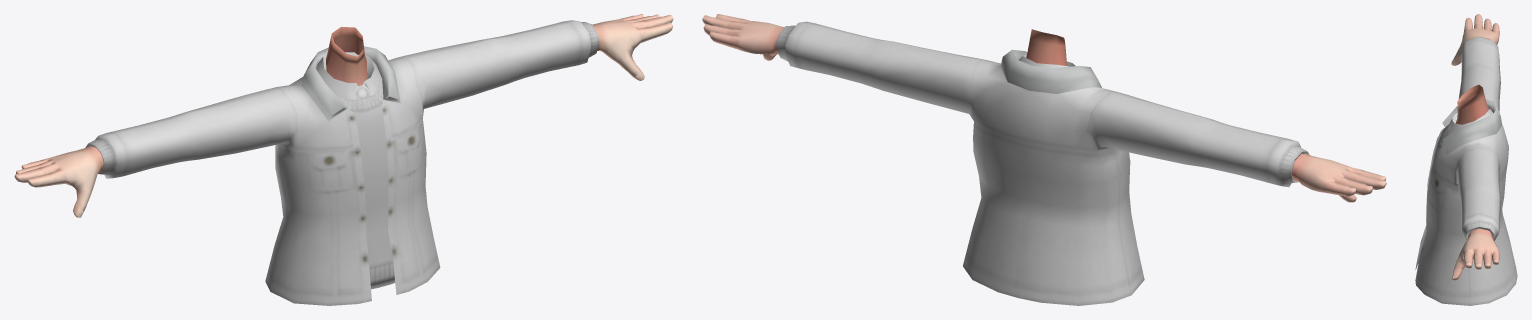
File: tr0720_00_upb03.gltf
3 views of the same model, side by side, from view 1: azimuth 30°, elevation 25°; view 2: azimuth 150°, elevation 25°; view 3: azimuth 270°, elevation 25° (orthographic). The views are drawn at different scales.
Visible parts, largest first — view 1: upb03_upperbody_mesh_shape:upperbody03, upb03_upperskin_mesh_shape:upperbody03_skin; view 2: upb03_upperbody_mesh_shape:upperbody03, upb03_upperskin_mesh_shape:upperbody03_skin; view 3: upb03_upperbody_mesh_shape:upperbody03, upb03_upperskin_mesh_shape:upperbody03_skin.
Part boxes in pixels (x1=…): upb03_upperbody_mesh_shape:upperbody03: x1=85, y1=20, x2=599, y2=305; upb03_upperskin_mesh_shape:upperbody03_skin: x1=14, y1=14, x2=673, y2=217; upb03_upperbody_mesh_shape:upperbody03: x1=776, y1=21, x2=1309, y2=305; upb03_upperskin_mesh_shape:upperbody03_skin: x1=702, y1=14, x2=1386, y2=202; upb03_upperbody_mesh_shape:upperbody03: x1=1415, y1=36, x2=1517, y2=305; upb03_upperskin_mesh_shape:upperbody03_skin: x1=1451, y1=14, x2=1499, y2=280.
Size of what is drawn, in the model's own units: 1.63 by 0.57 by 0.2803.
Materials: 2 (2 with a texture image).
